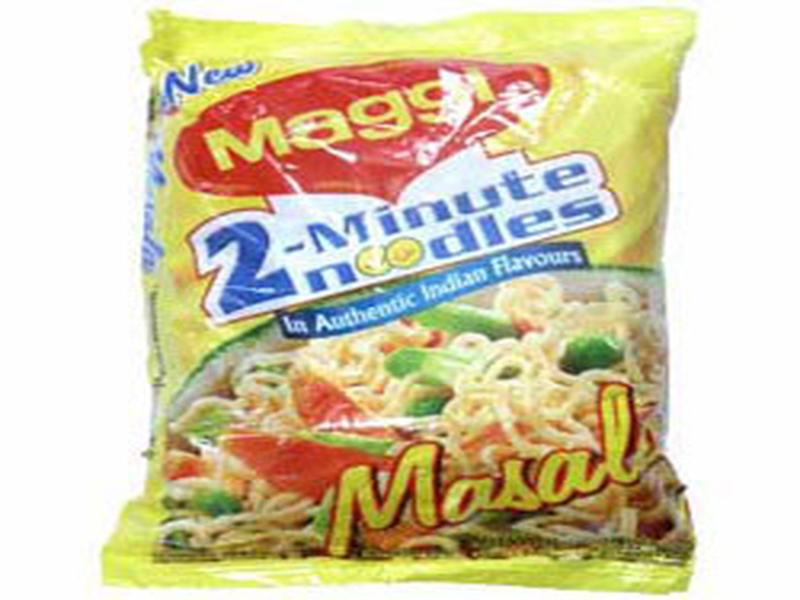maggi-small: (128, 3, 693, 595)
